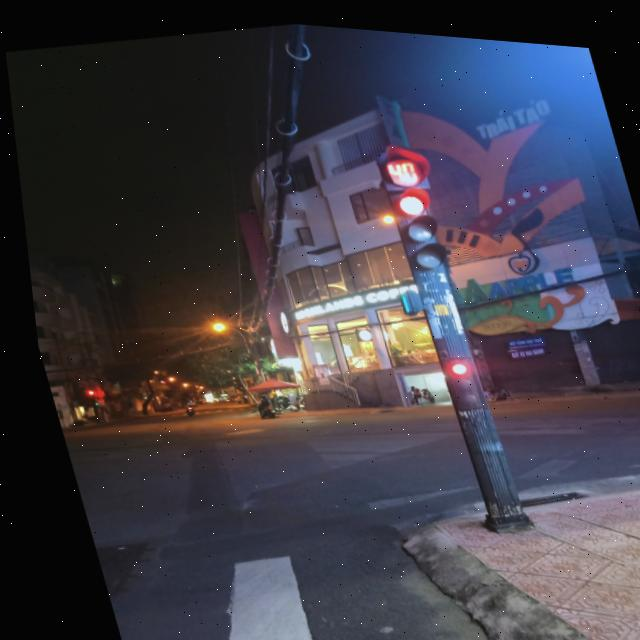Red: (383, 175, 447, 278), (430, 341, 483, 405)
